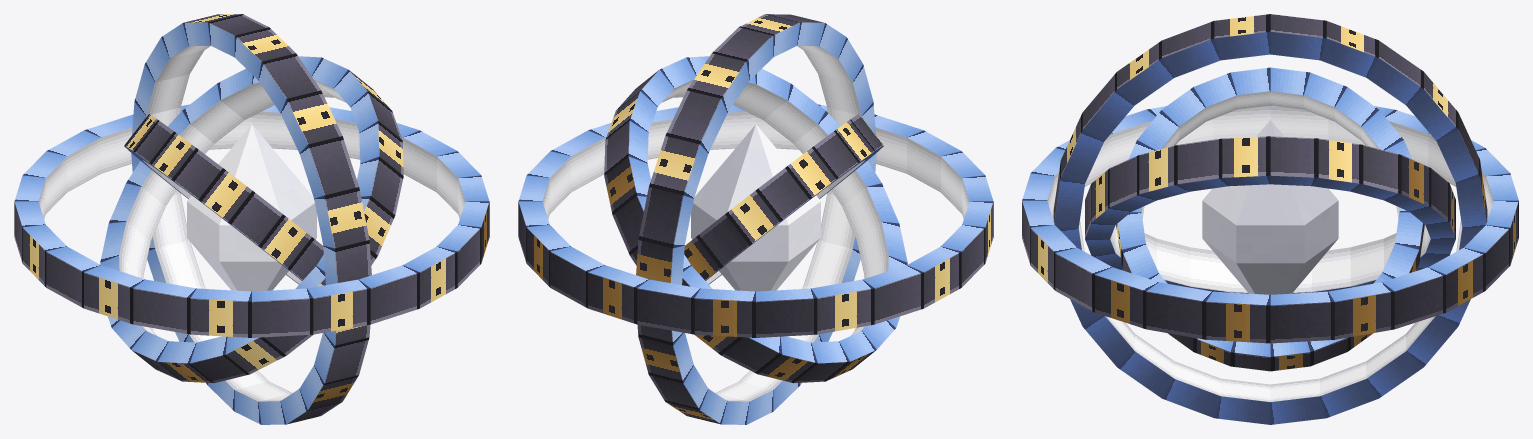
Rendered from regen2.glb.
3 views of the same model, side by side, from view 1: azimuth 30°, elevation 25°; view 2: azimuth 150°, elevation 25°; view 3: azimuth 270°, elevation 25° (orthographic). The views are drawn at different scales.
Parts seen in each view (by area): view 1: regen2_ring0, regen2_ring1, regen2_ring2, regen2_crystal, regen2_ring3, regen2_glow0, regen2_glow1, regen2_glow2; view 2: regen2_ring0, regen2_ring1, regen2_ring2, regen2_crystal, regen2_ring3, regen2_glow0, regen2_glow1, regen2_glow2; view 3: regen2_ring1, regen2_ring0, regen2_ring2, regen2_ring3, regen2_crystal, regen2_glow0, regen2_glow2, regen2_glow1, regen2_glow3.
Part boxes in pixels (box(x1,y1,x2,y2)): regen2_ring0: box(14, 104, 489, 337); regen2_ring1: box(131, 14, 371, 424); regen2_ring2: box(100, 56, 403, 383); regen2_crystal: box(187, 124, 316, 291); regen2_ring3: box(124, 114, 323, 284); regen2_glow0: box(38, 111, 465, 218); regen2_glow1: box(146, 45, 292, 401); regen2_glow2: box(119, 80, 345, 335); regen2_ring0: box(518, 104, 993, 337); regen2_ring1: box(636, 14, 876, 424); regen2_ring2: box(604, 56, 907, 383); regen2_crystal: box(691, 124, 820, 291); regen2_ring3: box(684, 114, 883, 284); regen2_glow0: box(542, 111, 969, 218); regen2_glow1: box(715, 45, 861, 401); regen2_glow2: box(662, 80, 888, 335); regen2_ring1: box(1053, 14, 1487, 424); regen2_ring0: box(1022, 105, 1518, 343); regen2_ring2: box(1085, 136, 1455, 293); regen2_ring3: box(1116, 67, 1424, 371); regen2_crystal: box(1202, 120, 1338, 294); regen2_glow0: box(1047, 106, 1493, 218); regen2_glow2: box(1110, 225, 1430, 292); regen2_glow1: box(1078, 220, 1462, 401); regen2_glow3: box(1141, 91, 1399, 218).
Bounding box in the file's own units: 0.948 × 0.828 × 0.948.
1 material, 1 textured.
